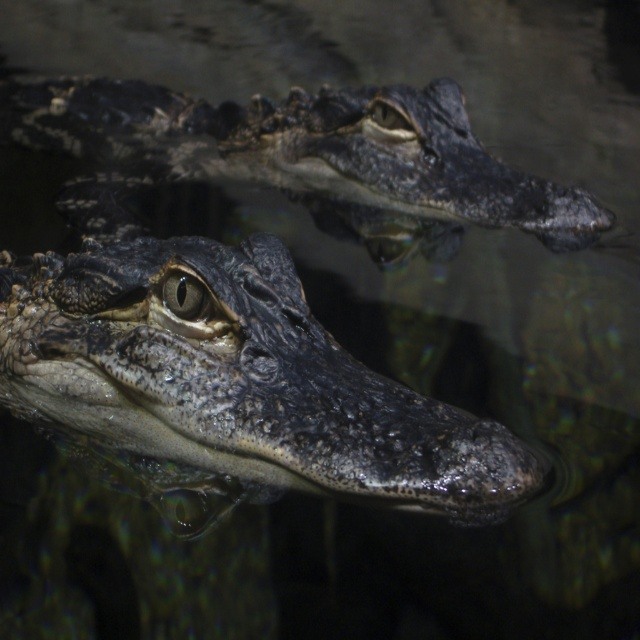Crocodile: (0, 229, 553, 530), (0, 66, 617, 274)
